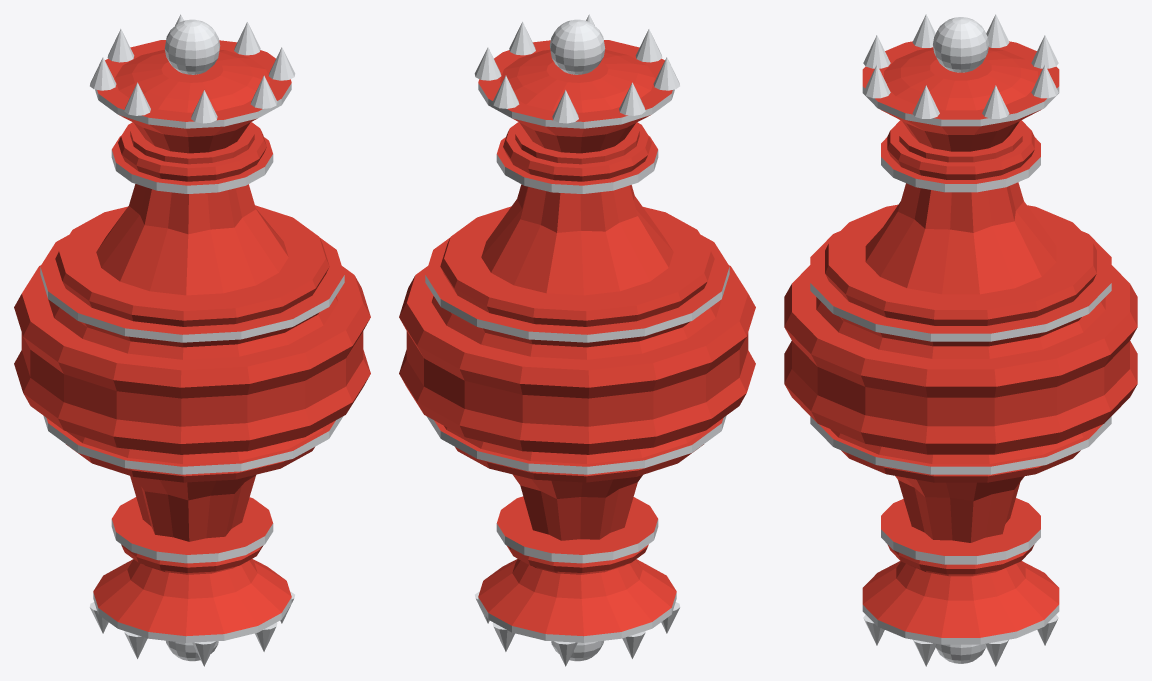
Rendered from queen-deco.glb.
The picture shows the model from 3 angles, left to right: view 1: azimuth 30°, elevation 25°; view 2: azimuth 150°, elevation 25°; view 3: azimuth 270°, elevation 25°; orthographic projection.
Visible parts, largest first — view 1: queen-deco; view 2: queen-deco; view 3: queen-deco.
Boxes of the visible parts, x1,y1,x2,y2 form: queen-deco: [14, 14, 370, 666]; queen-deco: [399, 14, 755, 666]; queen-deco: [784, 14, 1137, 666].
Size of the model in its own units: 0.485 by 0.9718 by 0.485.
